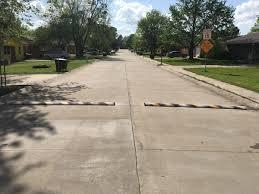Bump: (0, 98, 259, 110)
